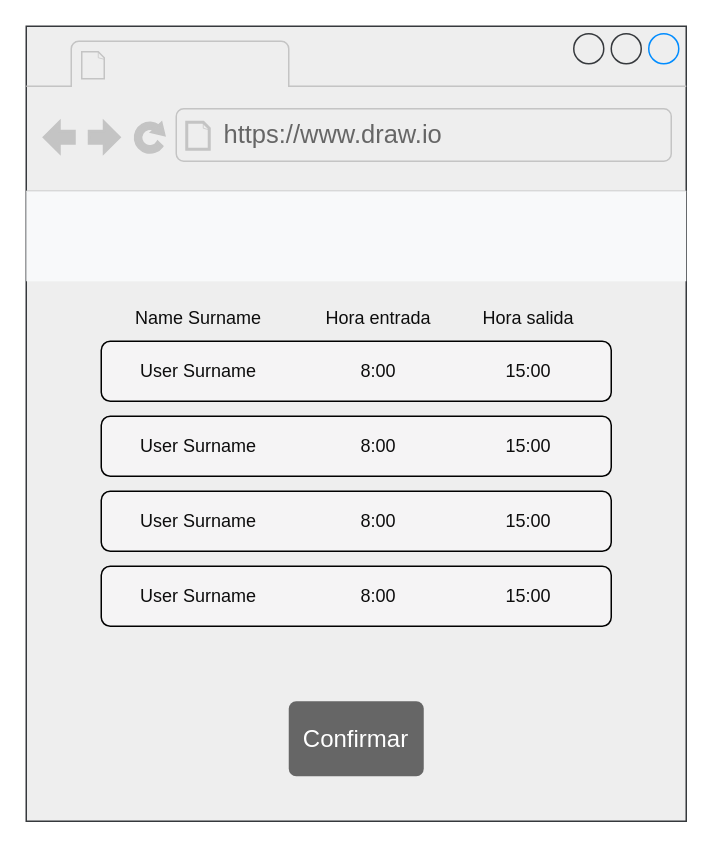
The diagram is 713 pixels wide and 848 high, and some of its shapes have lost their labels. Here are the shapes that lost their labels. From the top down, the centre of each, then its label:
the point at 198,63: Page 1
the point at 356,235: Inicio
